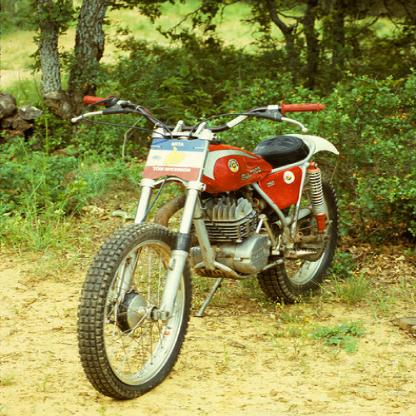motorbike: (66, 98, 340, 400)
